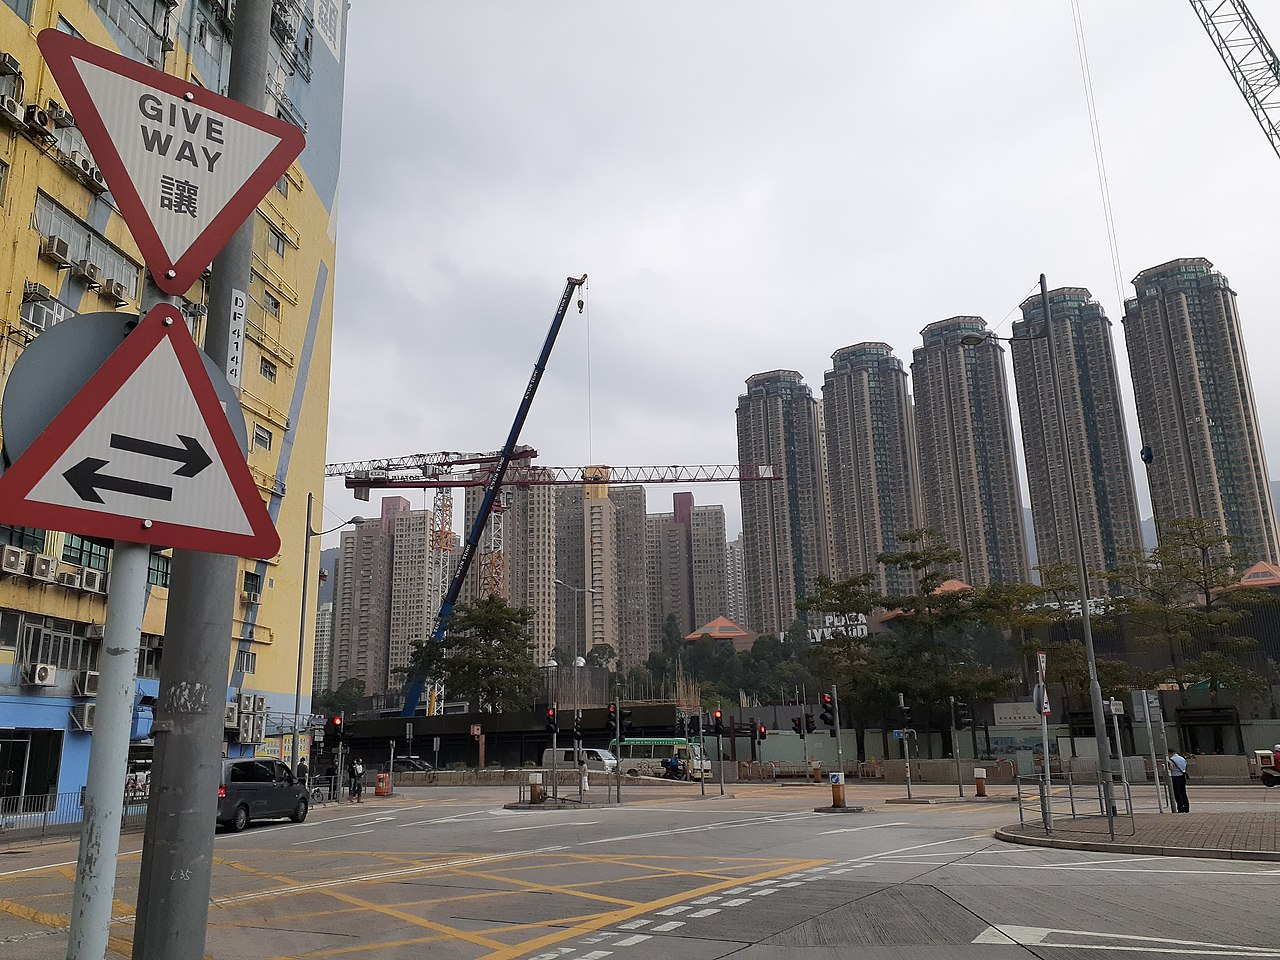Give Way: (34, 20, 312, 305)
Two way: (0, 303, 290, 567)
